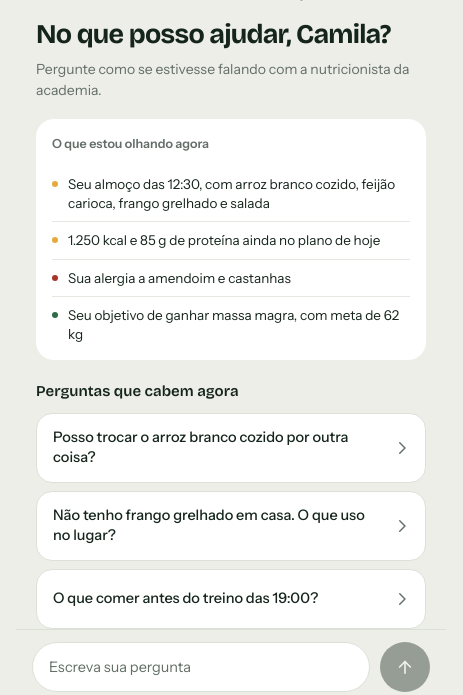
Chat do Nutri (S14) › IA fora: "Não enviada", sem chips; "Tentar de novo" reenvia (CA09)
(page scrolled)
Type "Oi" into the field named "Escreva sua pergunta para o Nutri" at [201, 667], box [32, 642, 370, 692]
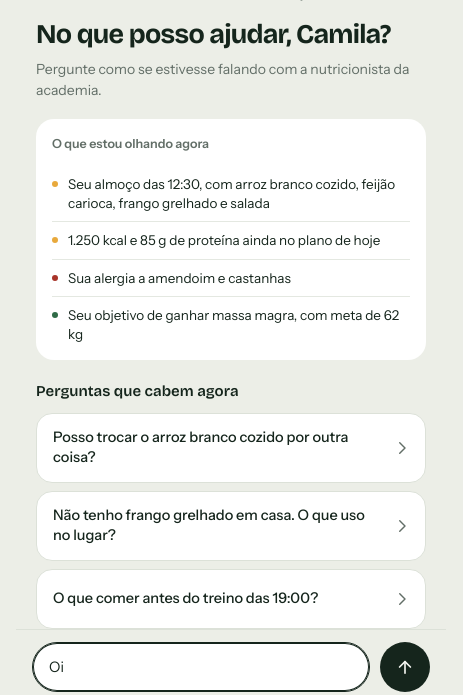
Click the button named "Enviar pergunta" at [405, 667], box [380, 642, 430, 692]
(page scrolled)
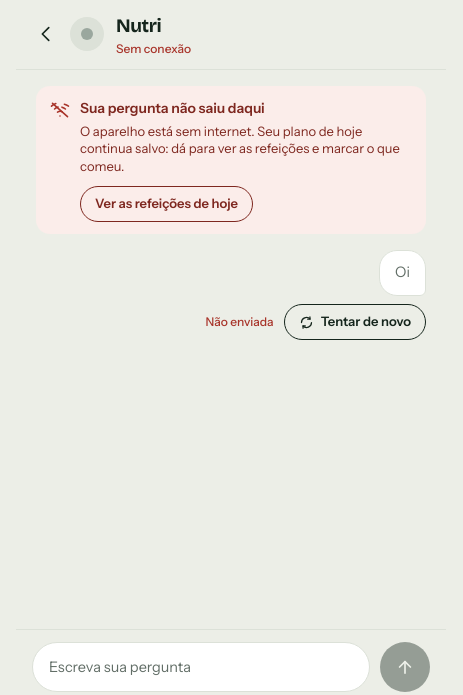
Result: the text "Não enviada" is shown at [206, 314, 274, 330]
Click the button "Tentar de novo" at [355, 322], box [284, 304, 426, 340]
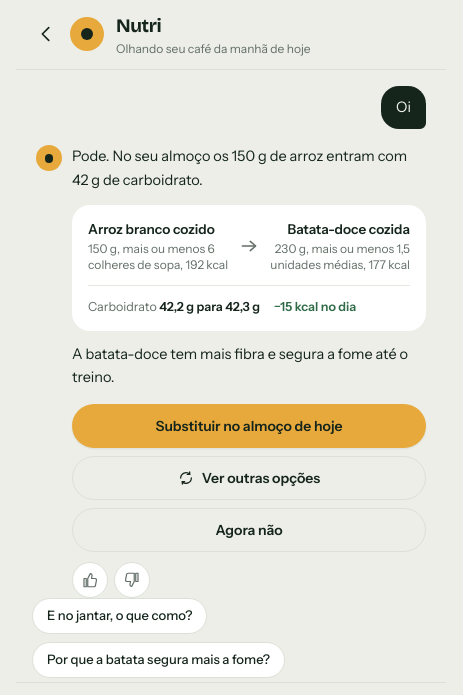
Result: the element named "De arroz branco cozido" is shown at [72, 205, 426, 331]
Result: the text "Não enviada" is gone
